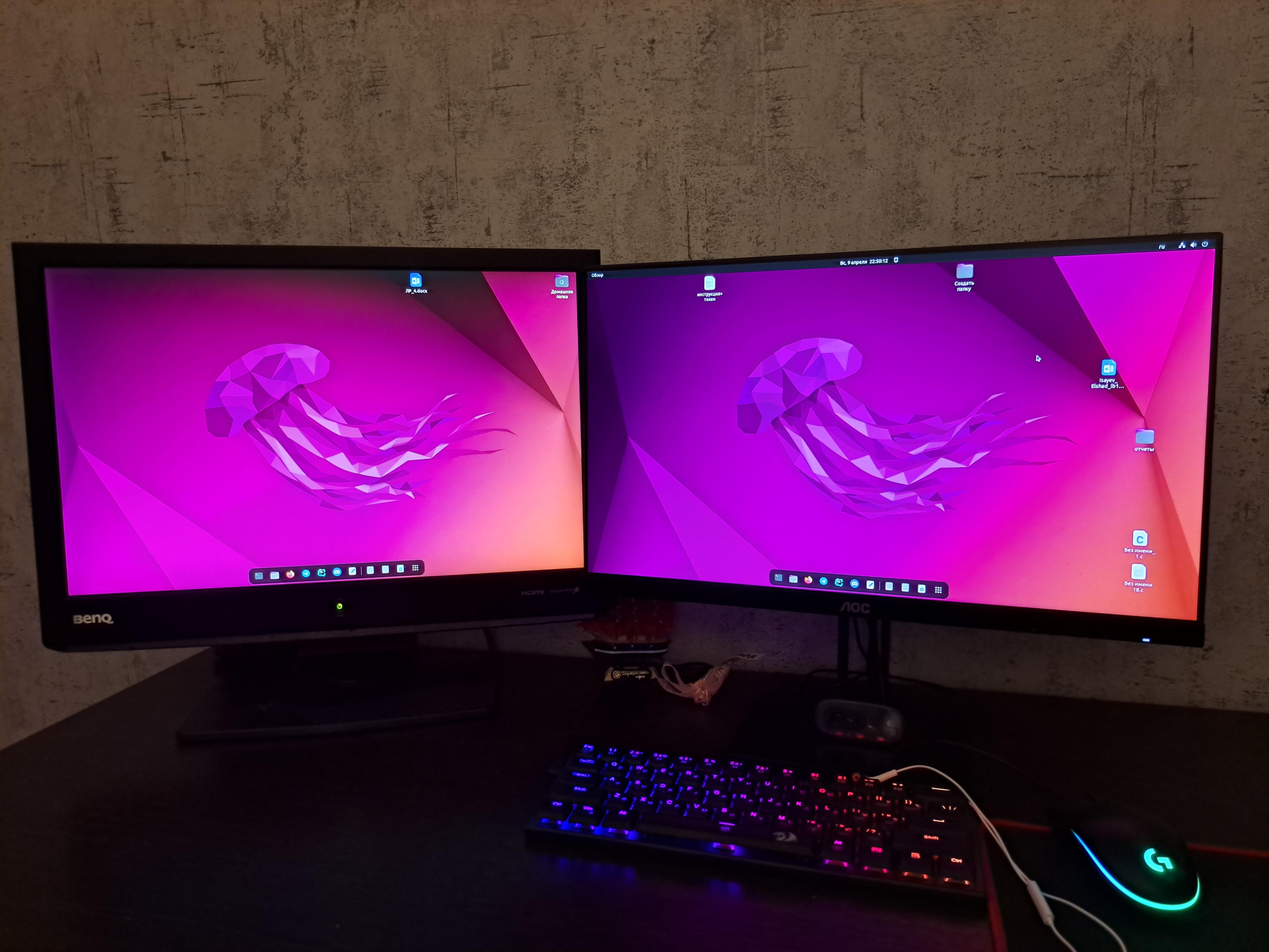monitor: (565, 225, 1232, 652), (7, 236, 615, 656)
